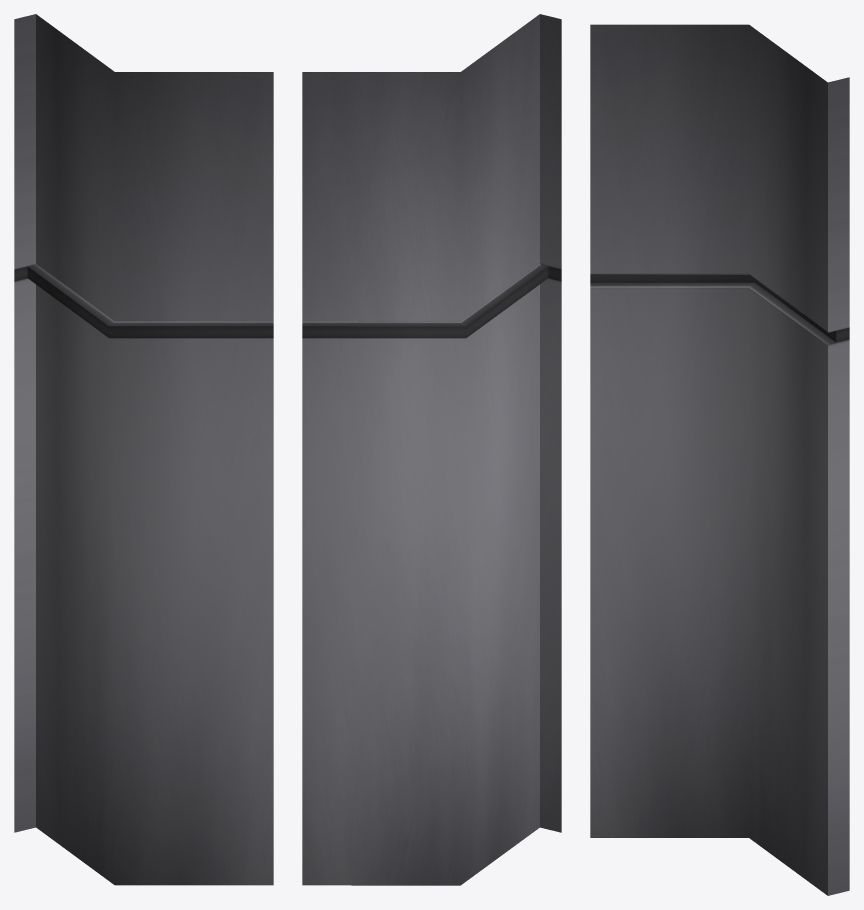
The model's file is OBT_UIN_HB.fbx.
3 renders of one model, left to right at view 1: azimuth 90°, elevation 25°; view 2: azimuth 150°, elevation 25°; view 3: azimuth 270°, elevation 25°, orthographic.
Visible parts, largest first — view 1: OBT_UIN_HB; view 2: OBT_UIN_HB; view 3: OBT_UIN_HB.
Part boxes in pixels (x1,y1,x2,y2): OBT_UIN_HB: [14, 14, 273, 885]; OBT_UIN_HB: [302, 14, 561, 885]; OBT_UIN_HB: [590, 24, 849, 895].
Bounding box in the file's own units: 0.8128 × 4.5 × 1.3.
